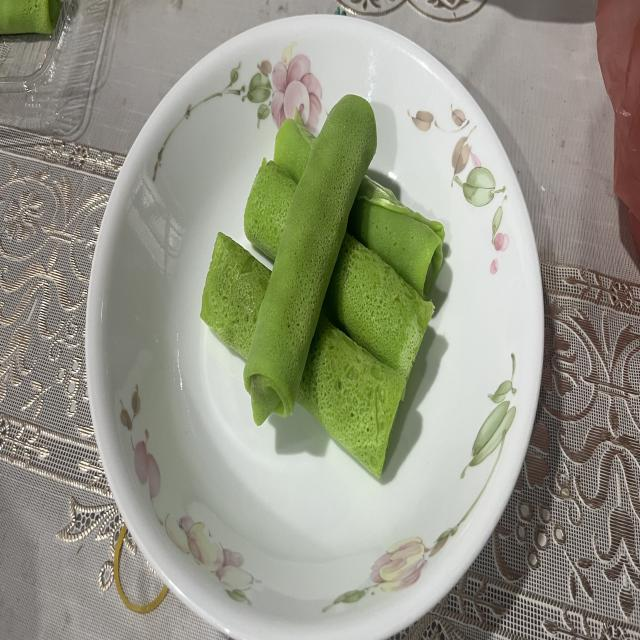Kuih-Ketayap: (244, 96, 378, 424), (296, 313, 406, 478), (324, 233, 434, 378), (348, 176, 445, 298), (201, 233, 271, 358), (244, 160, 296, 260), (274, 111, 316, 182)
